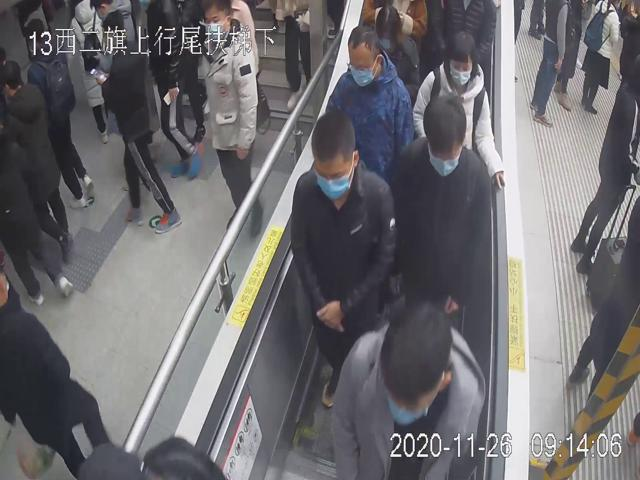person: (290, 116, 400, 409), (329, 297, 486, 480), (394, 96, 490, 320), (411, 28, 507, 191), (200, 0, 266, 237), (322, 23, 414, 173)
